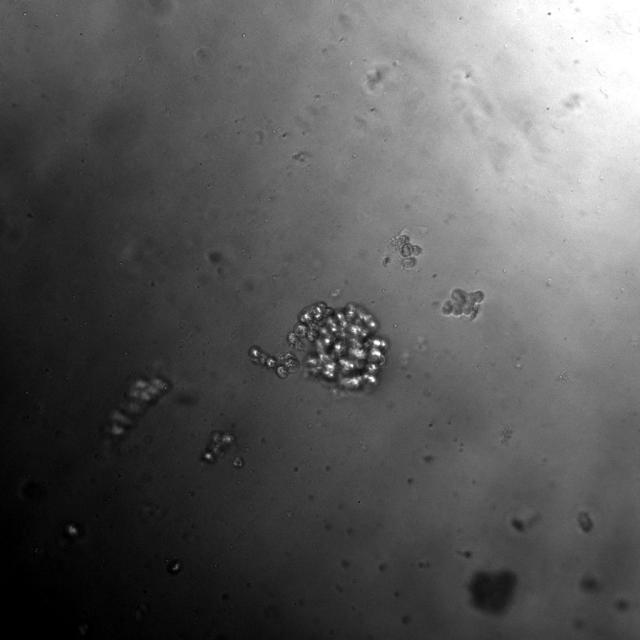organoid: (287, 301, 388, 391), (104, 376, 170, 438), (249, 345, 299, 378), (441, 289, 483, 319), (388, 233, 422, 267), (202, 430, 234, 463), (232, 455, 244, 468)
